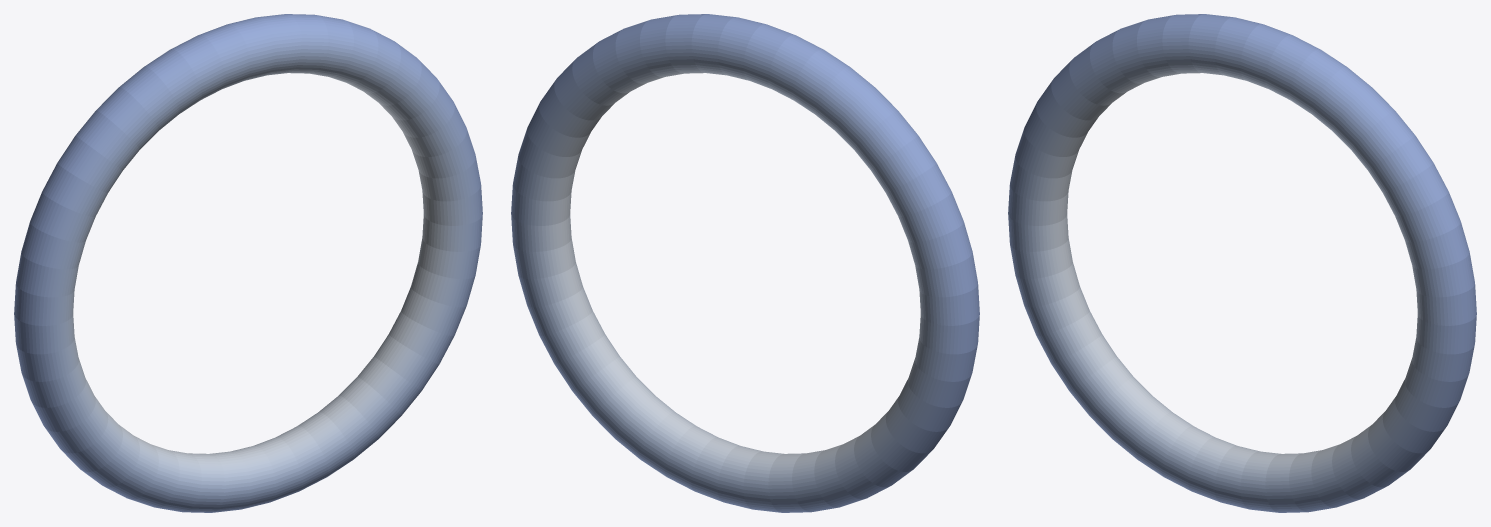
3 renders of one model, left to right at view 1: azimuth 30°, elevation 25°; view 2: azimuth 150°, elevation 25°; view 3: azimuth 330°, elevation 25°, orthographic.
Parts seen in each view (by area): view 1: world; view 2: world; view 3: world.
Boxes of the visible parts, left/top/right/bottom form: world: left=14, top=14, right=482, bottom=512; world: left=511, top=14, right=979, bottom=512; world: left=1008, top=14, right=1476, bottom=512.
Size of the model in its own units: 30 by 29.94 by 3.33.
